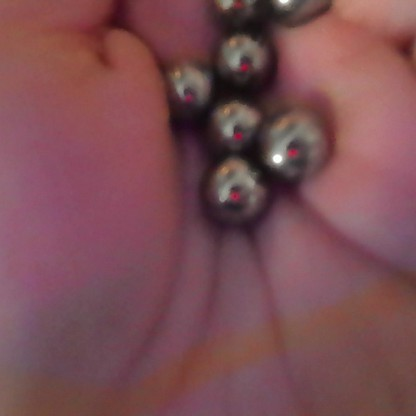ironball: (196, 155, 273, 224), (258, 107, 325, 177), (208, 33, 273, 101), (159, 57, 213, 119), (204, 96, 263, 150), (206, 0, 273, 30), (258, 0, 337, 25)
